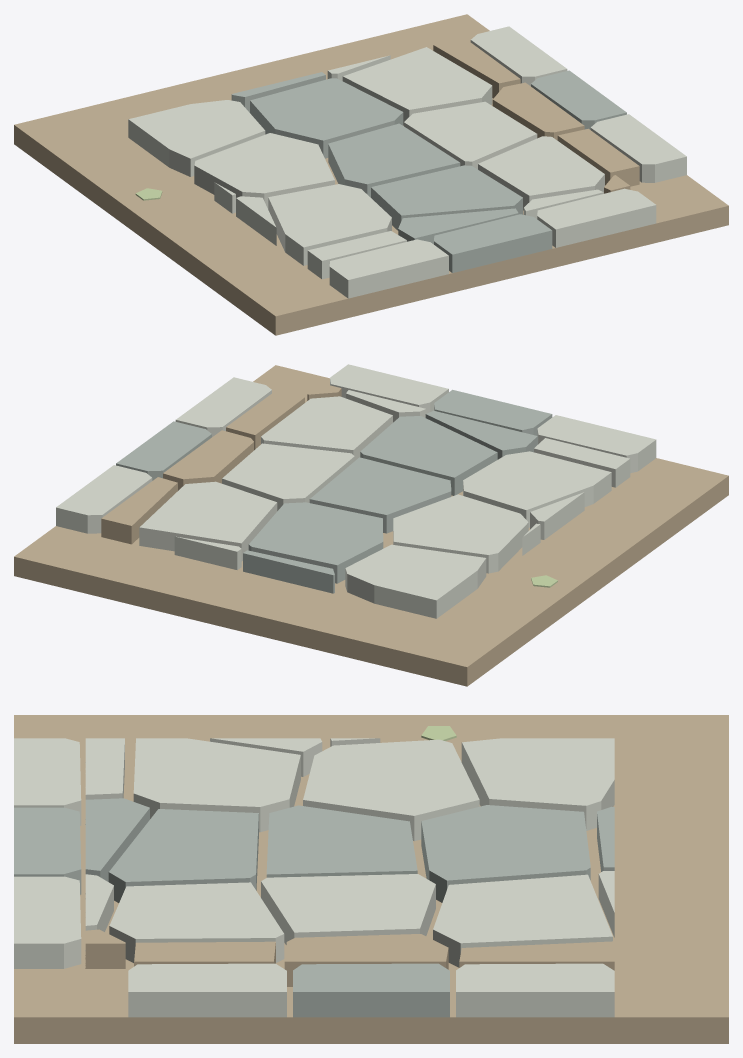
File: world_road_corner.fbx
3 views of the same model, one above another, from view 1: azimuth 30°, elevation 25°; view 2: azimuth 150°, elevation 25°; view 3: azimuth 270°, elevation 25° (orthographic). The views are drawn at different scales.
Parts seen in each view (by area): view 1: world_road_corner_mesh; view 2: world_road_corner_mesh; view 3: world_road_corner_mesh.
Boxes of the visible parts, x1,y1,x2,y2 form: world_road_corner_mesh: [14, 14, 728, 335]; world_road_corner_mesh: [14, 364, 728, 686]; world_road_corner_mesh: [14, 715, 728, 1043].
Bounding box in the file's own units: 1 × 0.08 × 1.
